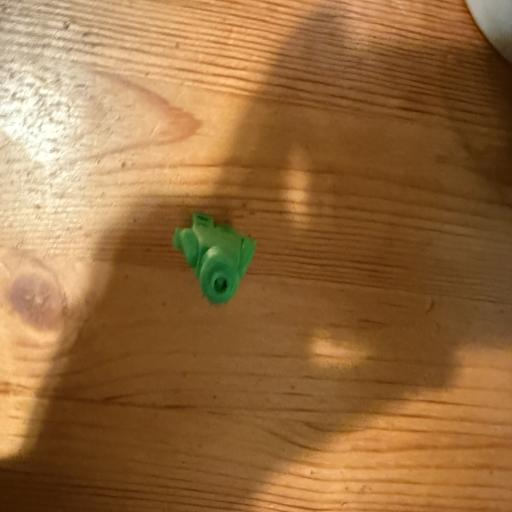Minifig: (173, 212, 257, 304)
